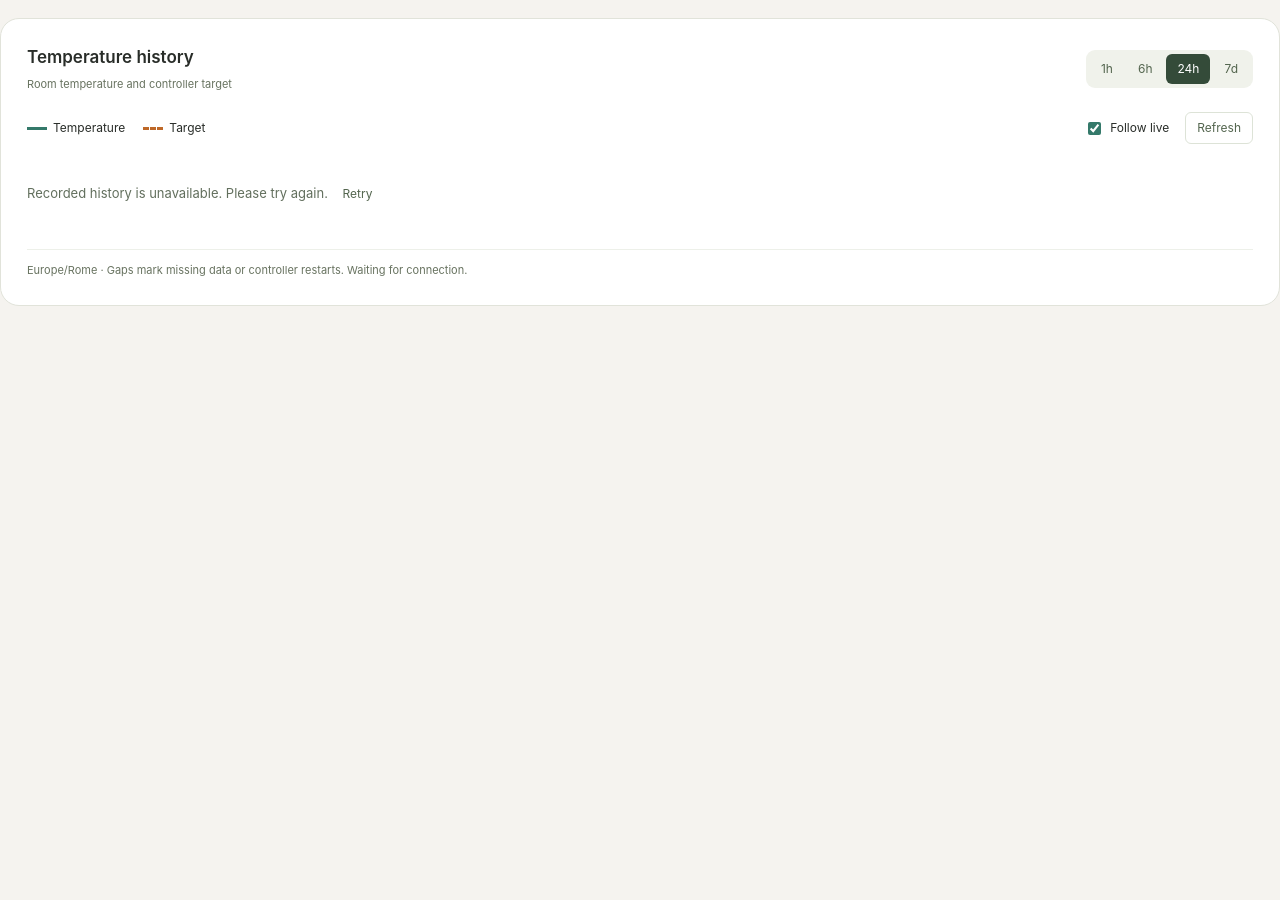
Test: shows an actionable error and retries
This screenshot has width=1280, height=900.
Expected: the message "Recorded history is unavailable. Please try again. Retry" is shown, x1=27 y1=179 x2=384 y2=209
Click the button "Retry" at (357, 194), box x1=332 y1=179 x2=383 y2=209
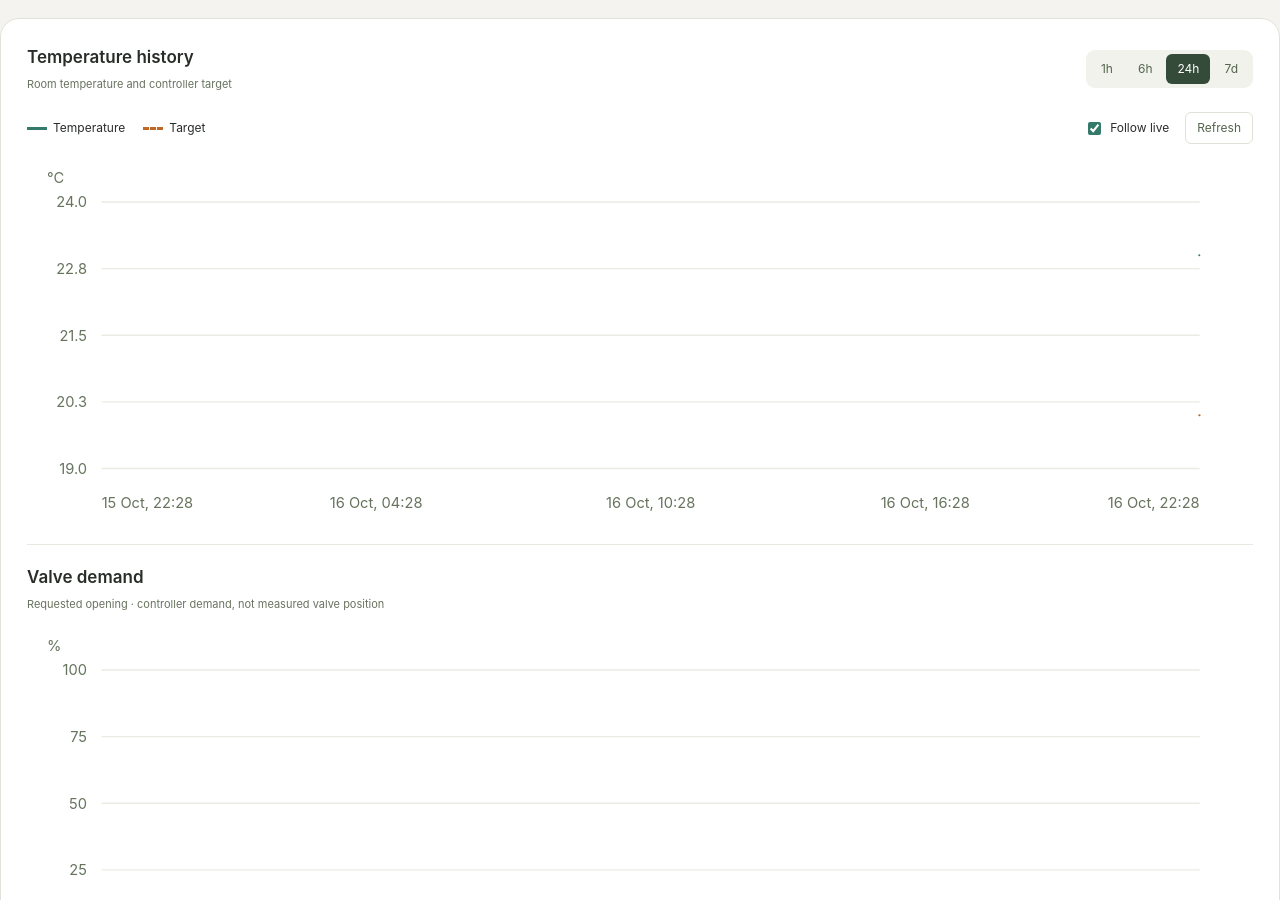
Now the picture named "Temperature and target in degrees Celsius over time" is shown, box x1=27 y1=162 x2=1253 y2=532
